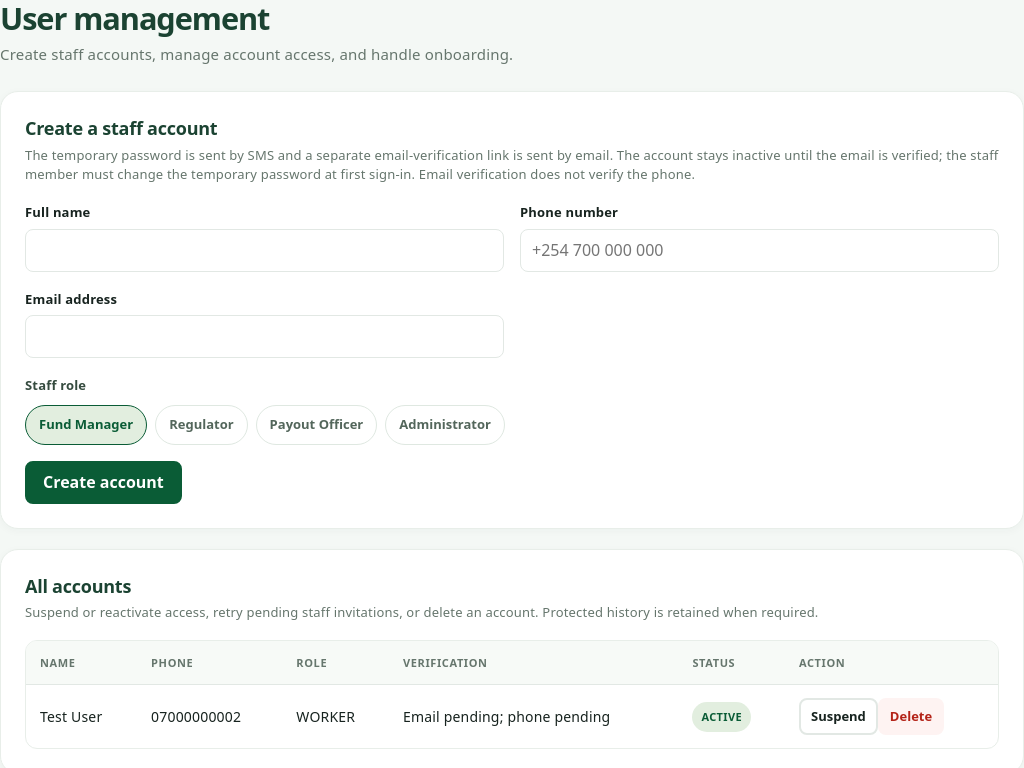
Test: UserManagement account actions › prevents repeated submissions while deletion is pending
Later steps or results of the test are not shown.
Click the button "Delete".
click(911, 717)  # box [878,698,944,735]
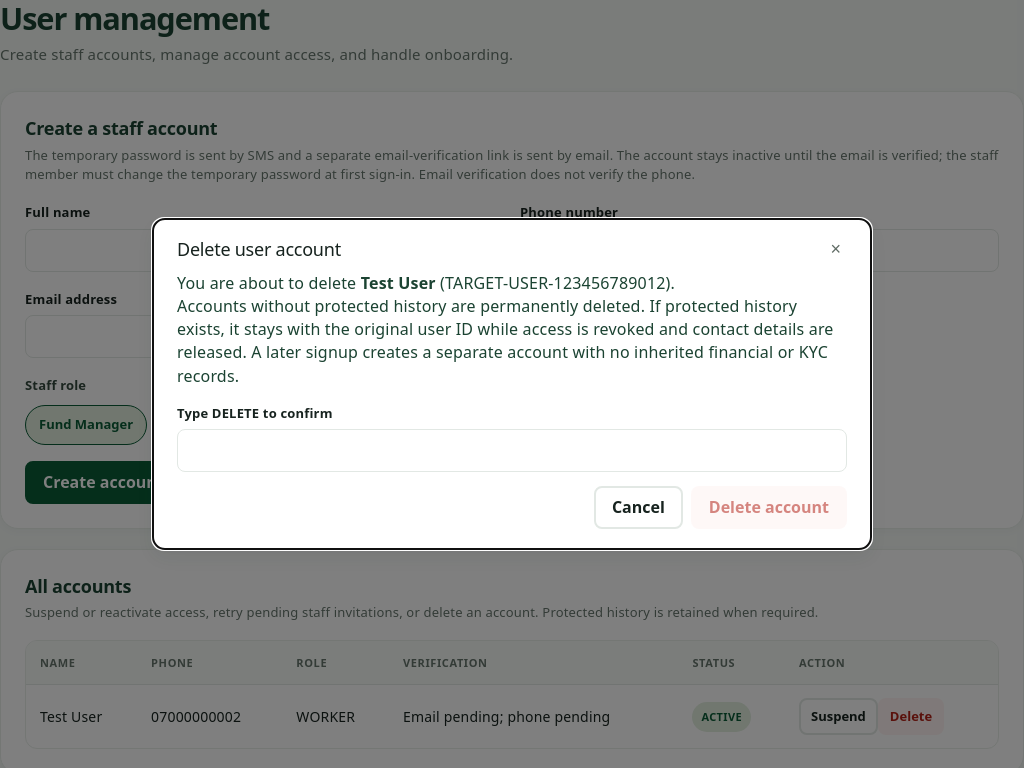
Type "DELETE" into the field labelled "Type DELETE to confirm".
click(512, 451); type("DELETE")  # box [177,429,847,472]
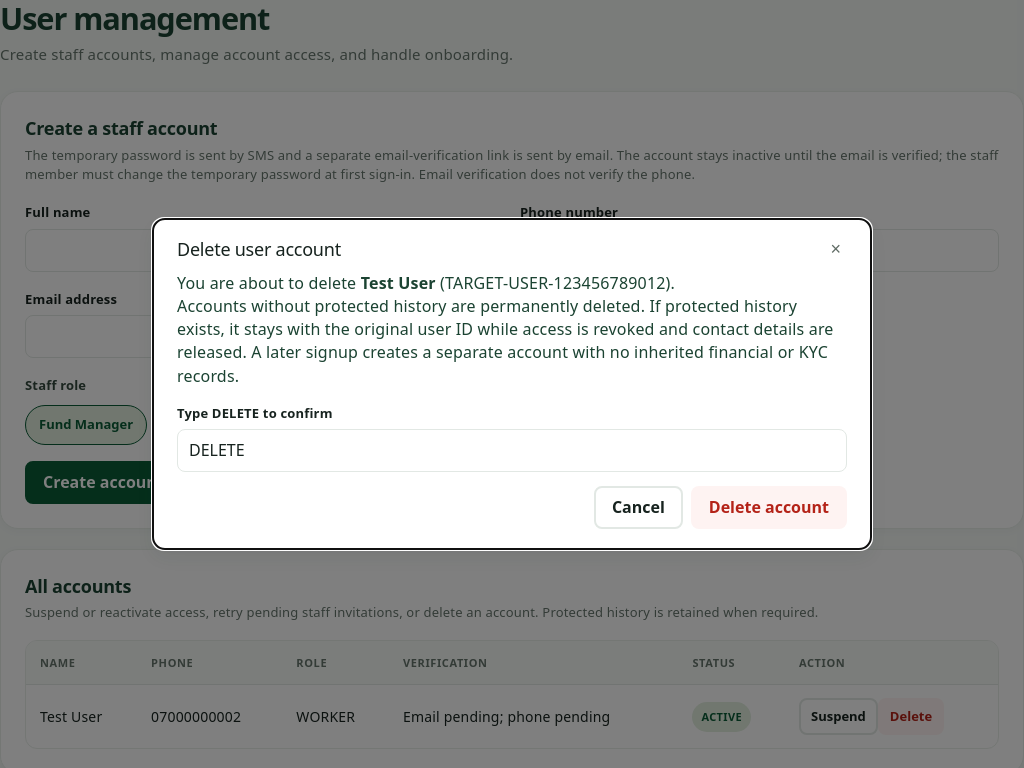
Click the button "Delete account".
click(769, 508)  # box [691,486,847,529]
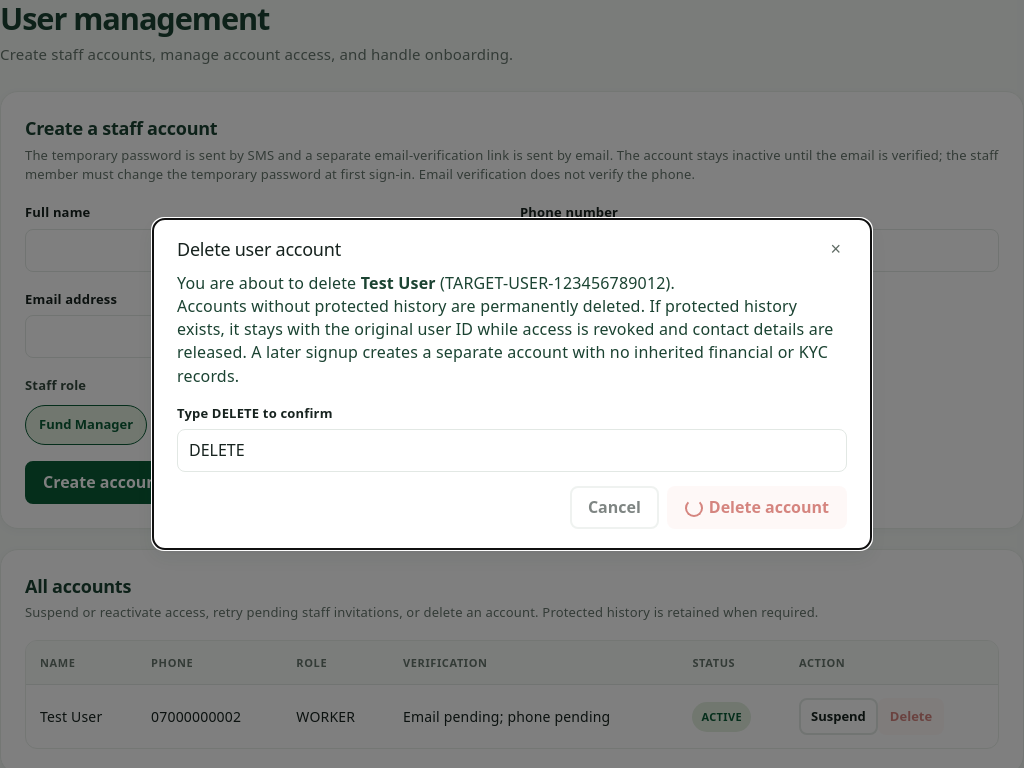
Check: the button "Delete account" is disabled, box [667,486,847,529]
